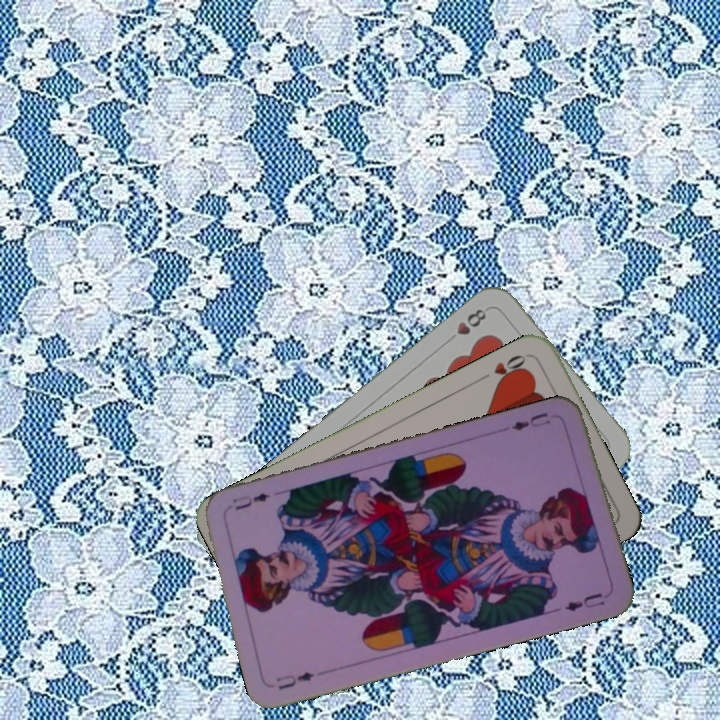EU: (508, 408, 553, 434), (272, 668, 317, 693)
H8: (442, 304, 489, 346)
HO: (476, 350, 531, 387)
